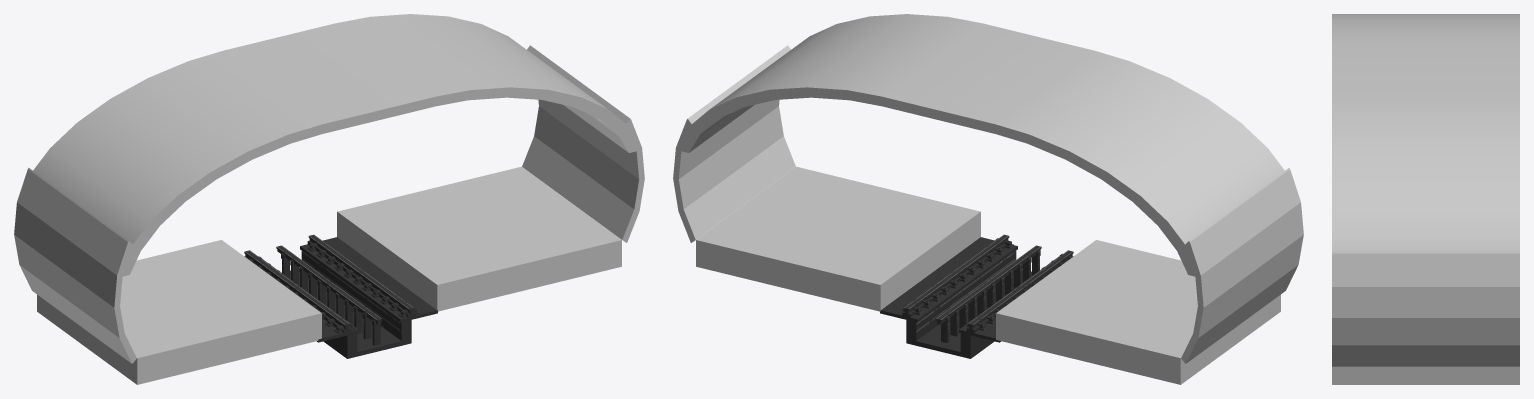
File: stage_5.fbx
3 views of the same model, side by side, from view 1: azimuth 30°, elevation 25°; view 2: azimuth 150°, elevation 25°; view 3: azimuth 270°, elevation 25° (orthographic). The views are drawn at different scales.
Parts seen in each view (by area): view 1: Cylinder.048, Grid.004, Grid.097, Cylinder.013, Cylinder.059, Cylinder.014, Grid.029, Grid.030, Grid.024, Grid.031, Grid.027, Grid.032; view 2: Cylinder.048, Grid.004, Grid.097, Cylinder.013, Cylinder.059, Cylinder.014, Grid.029, Grid.030, Grid.024, Grid.031, Grid.027, Grid.032; view 3: Cylinder.013, Cylinder.014, Cylinder.048, Grid.004.
Part boxes in pixels (bbox=[...]): Cylinder.048: bbox=[33, 37, 379, 276]; Grid.004: bbox=[337, 166, 621, 311]; Grid.097: bbox=[37, 240, 321, 384]; Cylinder.013: bbox=[279, 14, 638, 152]; Cylinder.059: bbox=[14, 167, 136, 363]; Cylinder.014: bbox=[522, 45, 644, 242]; Grid.029: bbox=[258, 237, 437, 358]; Grid.030: bbox=[281, 253, 381, 345]; Grid.024: bbox=[307, 234, 415, 317]; Grid.031: bbox=[244, 250, 351, 333]; Grid.027: bbox=[248, 241, 418, 333]; Grid.032: bbox=[276, 245, 381, 324]; Cylinder.048: bbox=[938, 37, 1284, 277]; Grid.004: bbox=[696, 166, 980, 311]; Grid.097: bbox=[996, 240, 1280, 384]; Cylinder.013: bbox=[677, 14, 1038, 152]; Cylinder.059: bbox=[1181, 167, 1303, 363]; Cylinder.014: bbox=[673, 45, 795, 242]; Grid.029: bbox=[880, 237, 1059, 358]; Grid.030: bbox=[941, 250, 1040, 342]; Grid.024: bbox=[902, 234, 1009, 319]; Grid.031: bbox=[966, 250, 1073, 335]; Grid.027: bbox=[902, 238, 1073, 330]; Grid.032: bbox=[936, 245, 1041, 324]; Cylinder.013: bbox=[1332, 72, 1519, 251]; Cylinder.014: bbox=[1332, 252, 1519, 366]; Cylinder.048: bbox=[1332, 14, 1519, 72]; Grid.004: bbox=[1332, 366, 1519, 384].
Size of the model in its own units: 1419 by 615 by 464.
